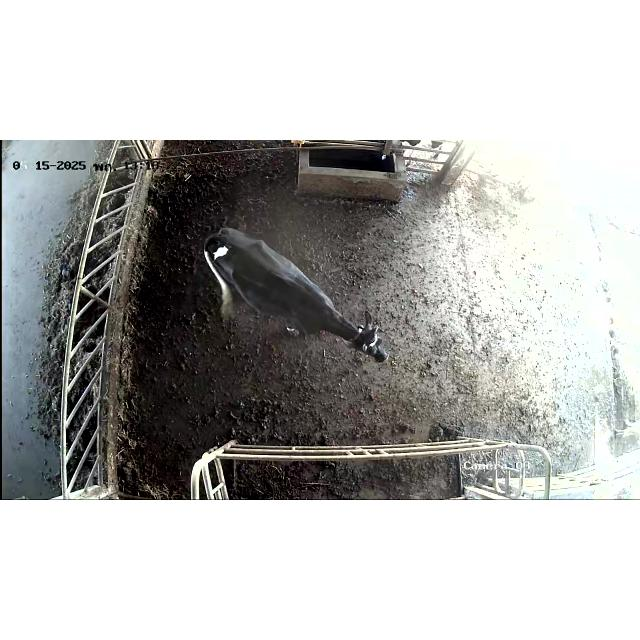stand: (190, 221, 416, 393)
